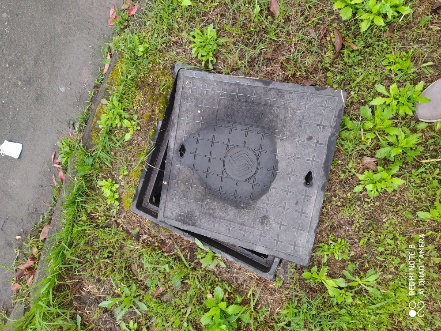uncovered: (129, 64, 347, 281)
